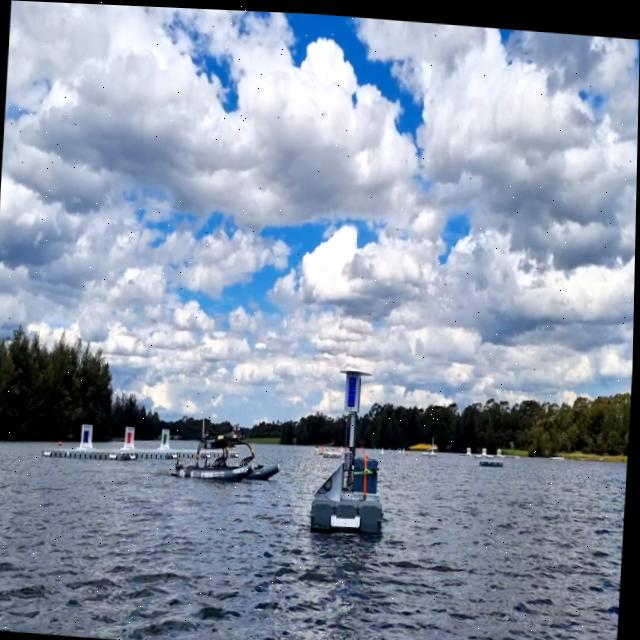led: (347, 370, 360, 406)
